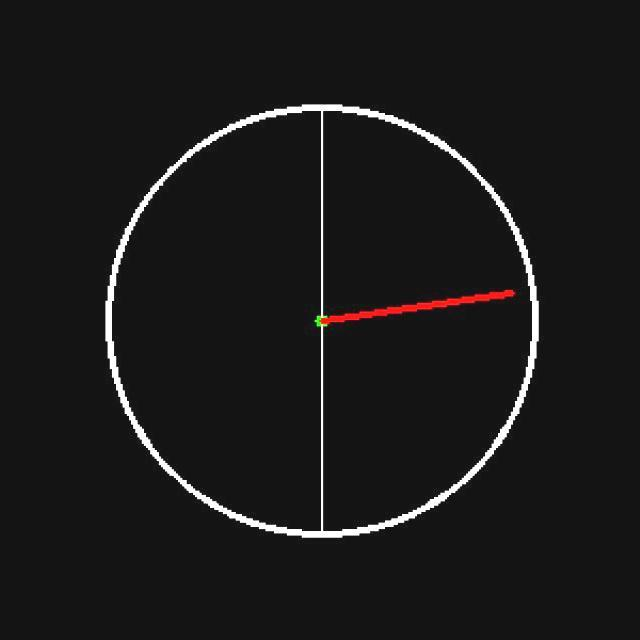Needle_Tip: (481, 274, 527, 315)
Needle_base: (298, 284, 360, 357)
